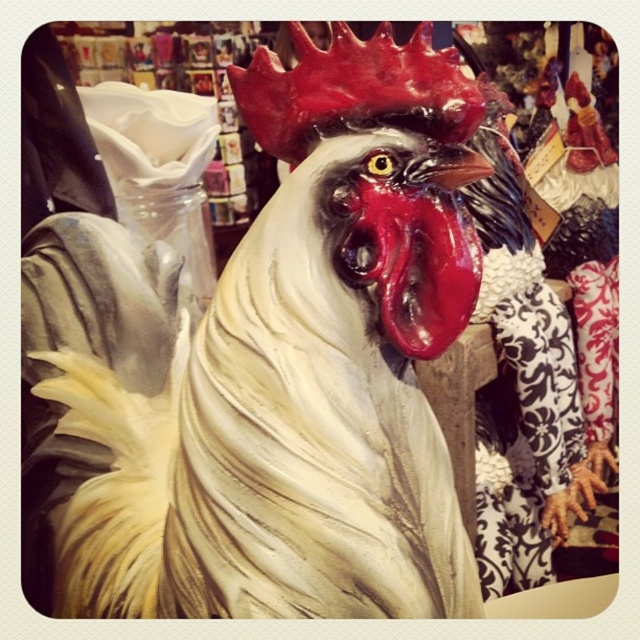Chicken: (16, 5, 493, 639)
